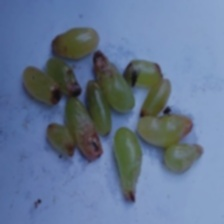grapes: (33, 22, 222, 161)
